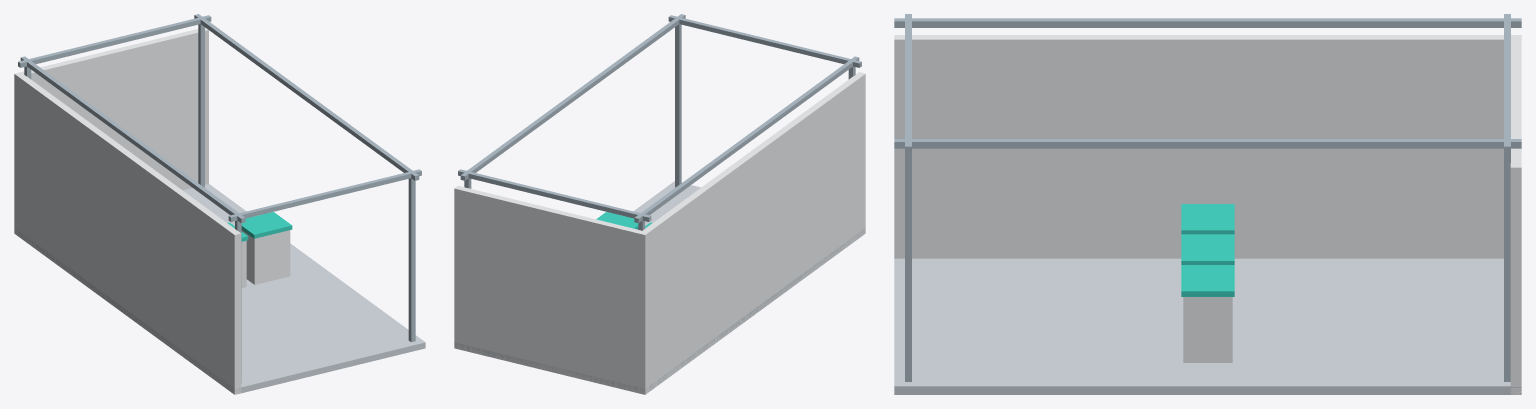
The picture shows the model from 3 angles, left to right: view 1: azimuth 30°, elevation 25°; view 2: azimuth 150°, elevation 25°; view 3: azimuth 270°, elevation 25°; orthographic projection. The views are drawn at different scales.
Parts seen in each view (by area): view 1: Exhibition Booth Concept; view 2: Exhibition Booth Concept; view 3: Exhibition Booth Concept.
Part boxes in pixels (x1=…): Exhibition Booth Concept: x1=14, y1=14, x2=425, y2=394; Exhibition Booth Concept: x1=454, y1=14, x2=865, y2=394; Exhibition Booth Concept: x1=894, y1=14, x2=1521, y2=394.
Bounding box in the file's own units: 4 × 3.49 × 8.
